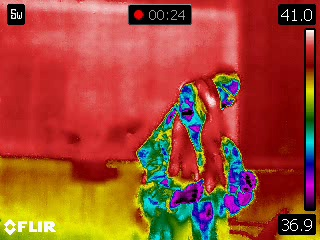human: (133, 66, 262, 211), (156, 78, 253, 240)
